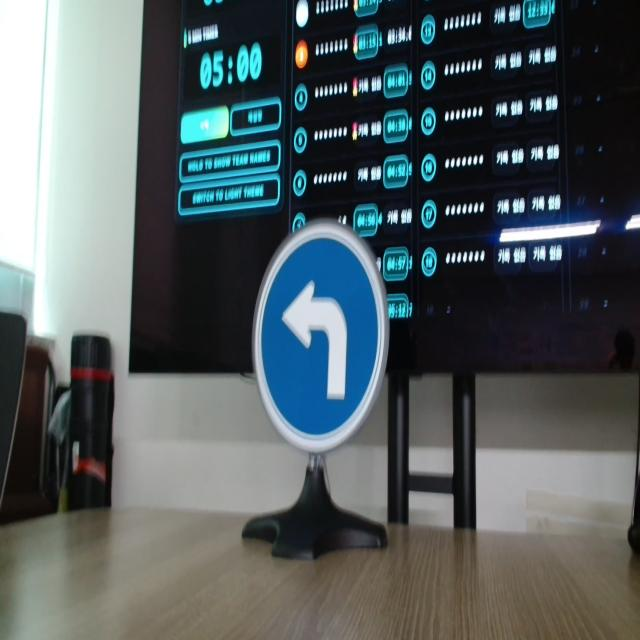left_direction: (252, 198, 417, 492)
